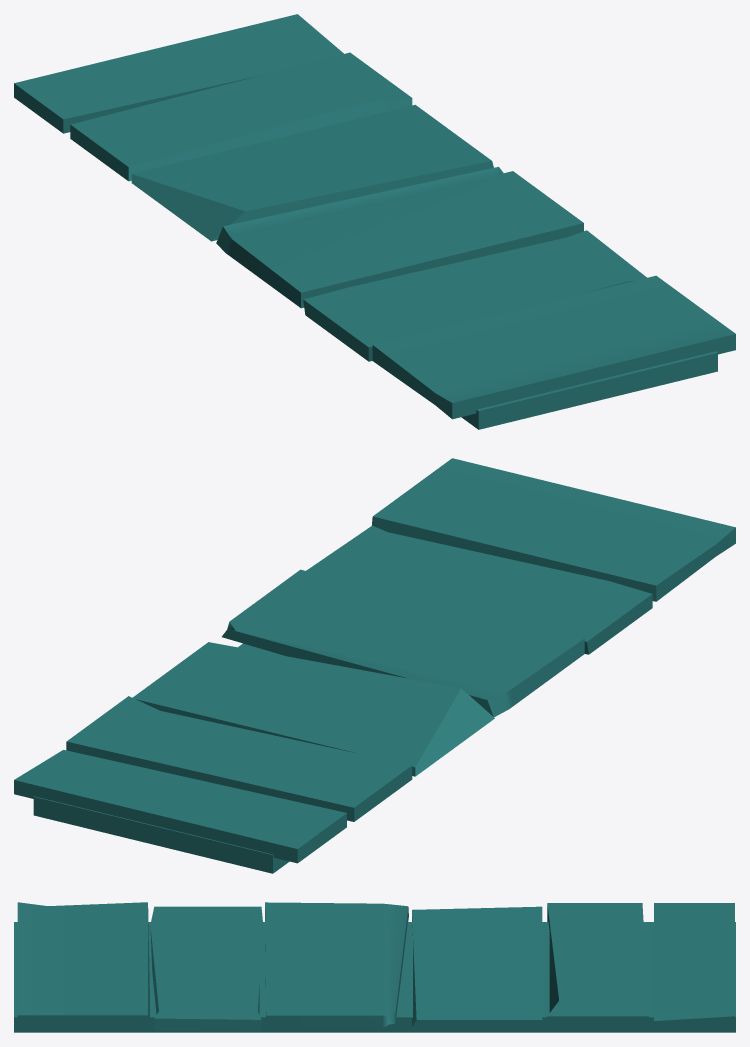
The model's file is 3D_plank.fbx.
3 renders of one model, top to bottom at view 1: azimuth 30°, elevation 25°; view 2: azimuth 150°, elevation 25°; view 3: azimuth 270°, elevation 25°, orthographic. The views are drawn at different scales.
Parts seen in each view (by area): view 1: Plank; view 2: Plank; view 3: Plank.
Boxes of the visible parts, x1=… form: Plank: x1=14, y1=14, x2=735, y2=429; Plank: x1=14, y1=458, x2=735, y2=873; Plank: x1=14, y1=902, x2=735, y2=1032.
Size of the model in its own units: 6.96 by 0.897 by 18.75.
